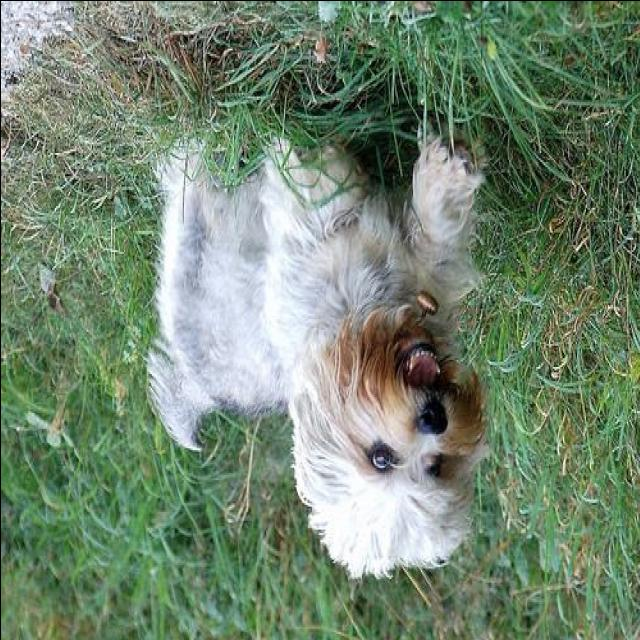dandie_dinmont: (142, 110, 494, 580)
